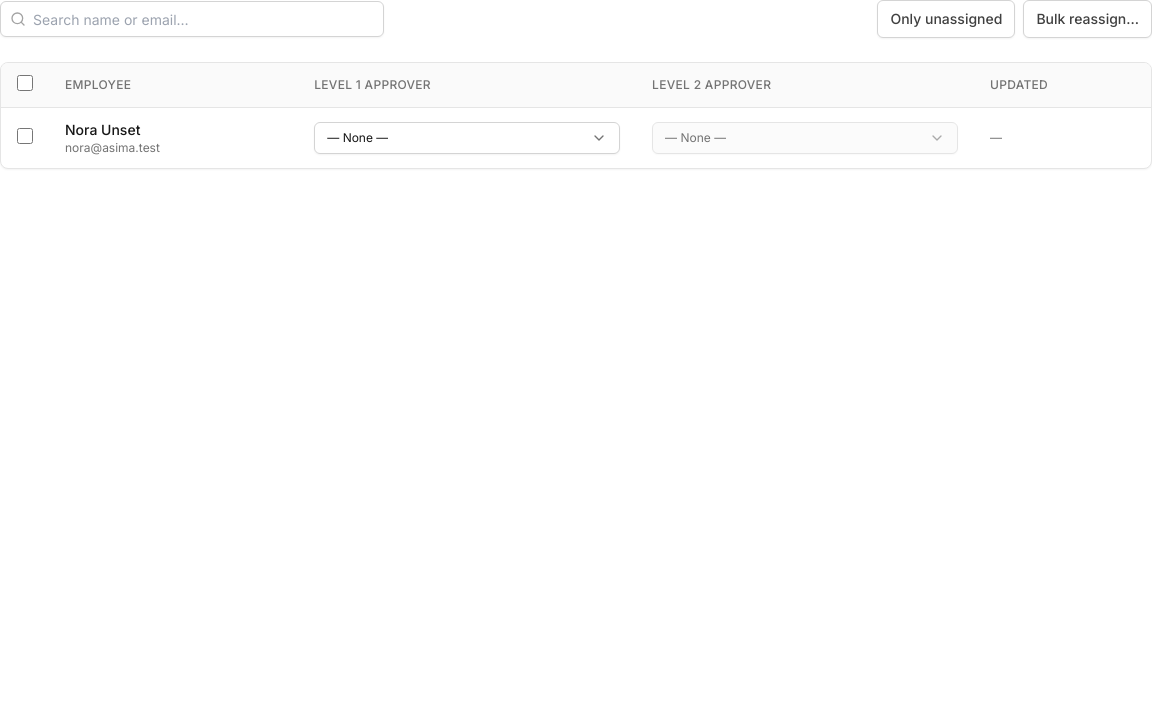
Test: ApproversPage › selecting a row reveals the action bar and opens the assign dialog
The width and height of the screenshot is (1152, 720).
expect the text "Nora Unset" is shown: met, box [65,121,140,138]
What coordinates should you click on to do the following:
click the checkbox named "select nora unset"
I would click on:
 (25, 136)
Its box is [17,128,33,144].
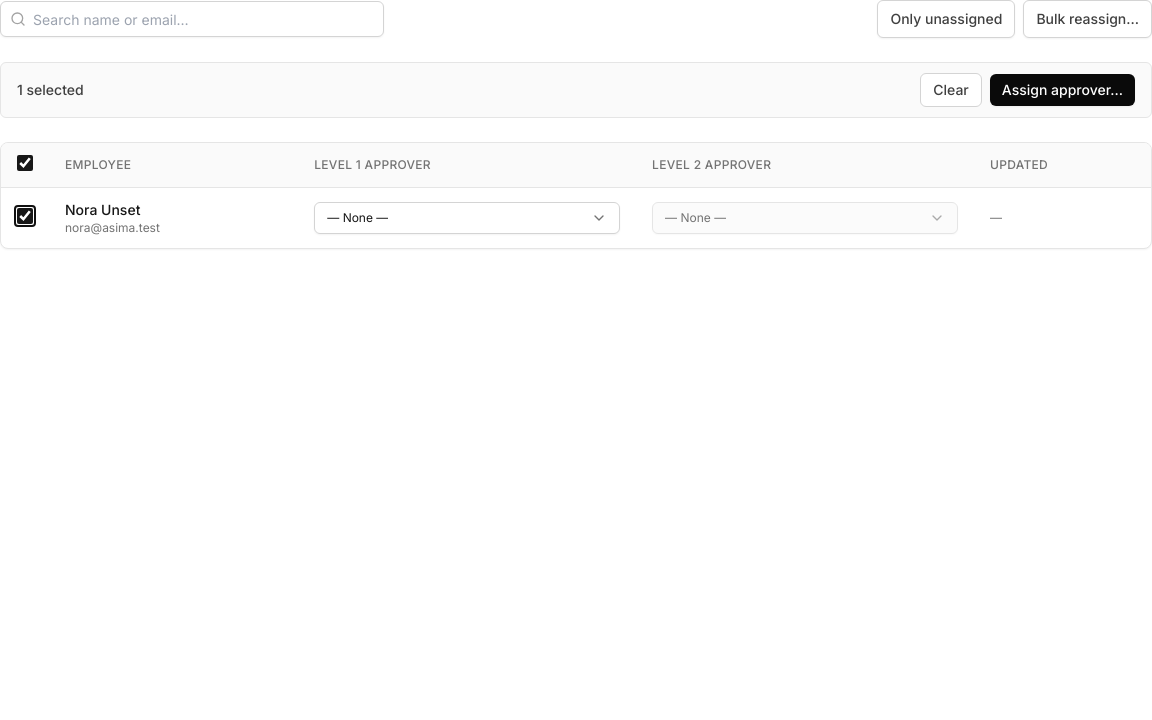
expect the text "1 selected" is shown: met, box [17,80,84,100]
What coordinates should you click on to do the following:
click the button "Assign approver…"
I would click on:
 (1062, 90)
Its box is [990,74,1135,106].
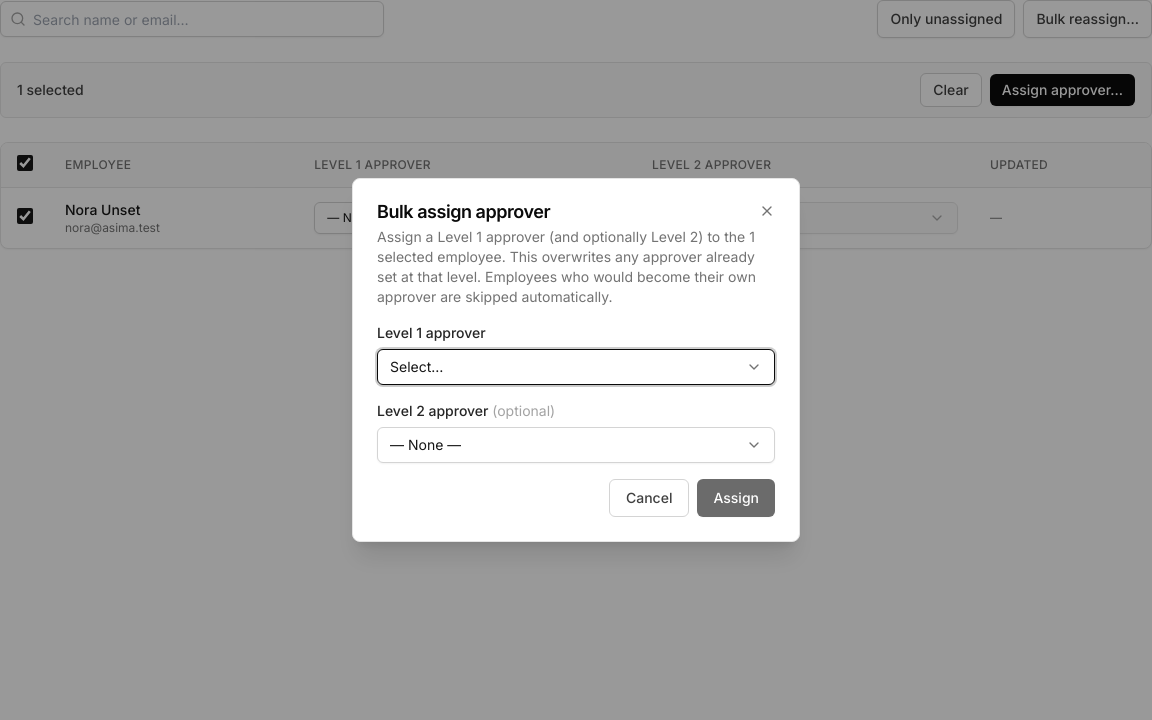
expect the heading "Bulk assign approver" is shown: met, box [377,201,550,222]
